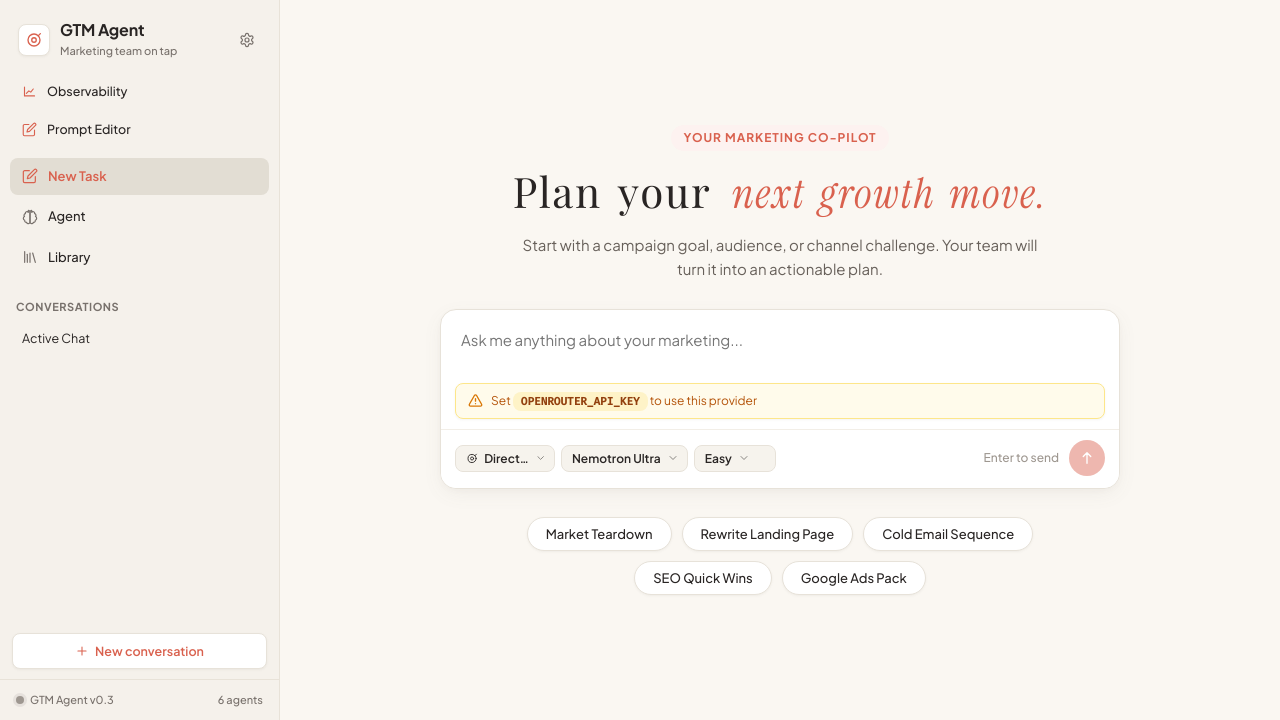
Test: App conversation threads regression suite › resets view when clicking New conversation
The image size is (1280, 720).
Click the text "Active Chat": (56, 338) [22,330,90,346]
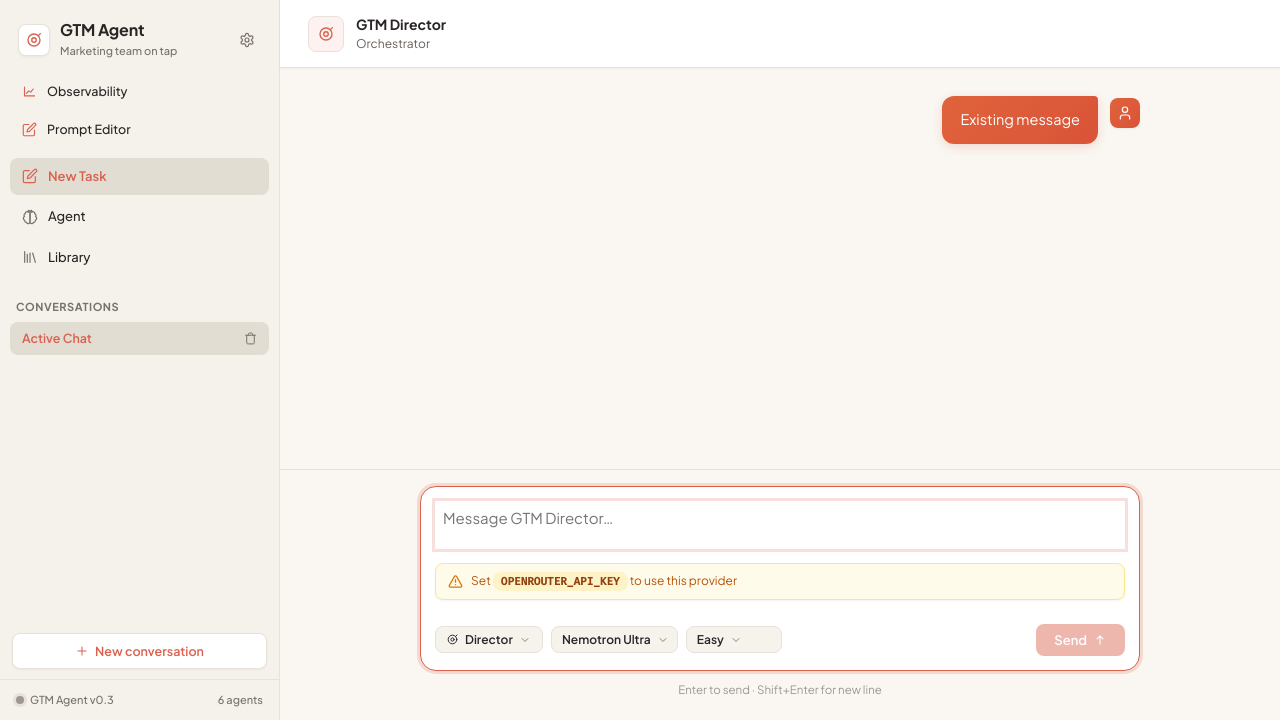
Expected: the text "Existing message" is shown, [960,108,1080,132]
# Click New conversation button
Click the button "New conversation": (140, 650) [12,632,267,668]
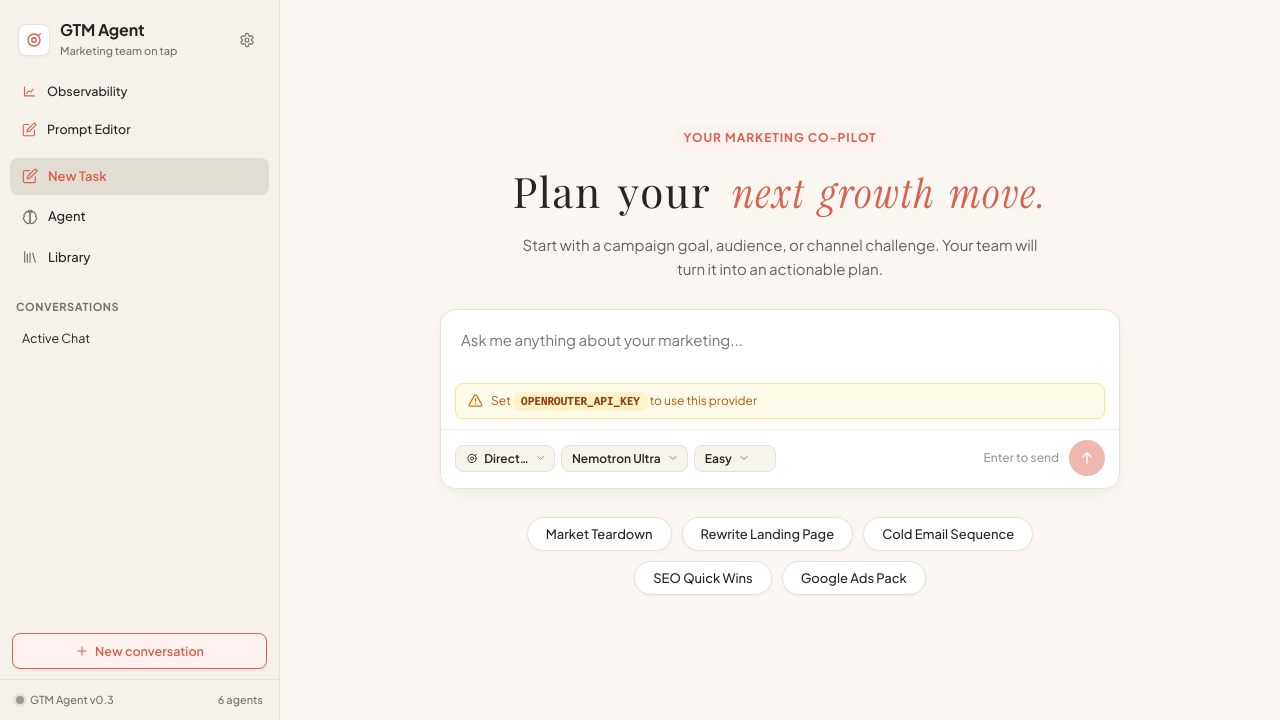
Expected: the text "Existing message" is gone
Expected: the text box with placeholder "Ask me anything about your marketing..." is shown, [441,310,1119,374]
